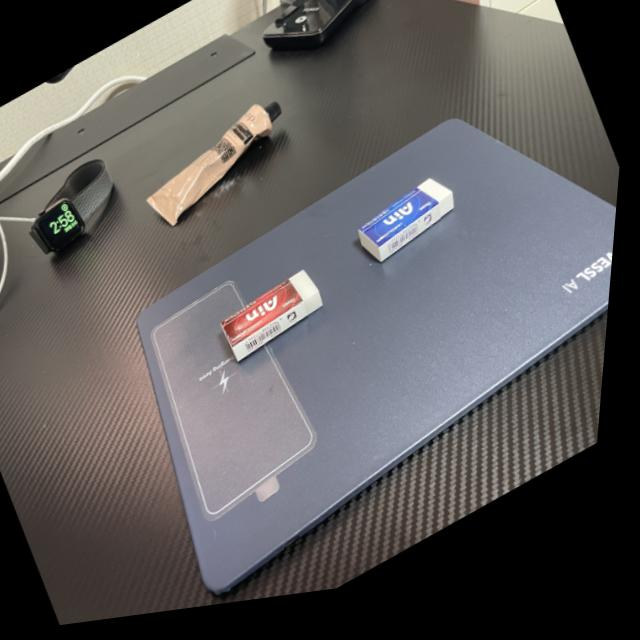blue: (343, 169, 479, 294)
red: (214, 264, 345, 382)
